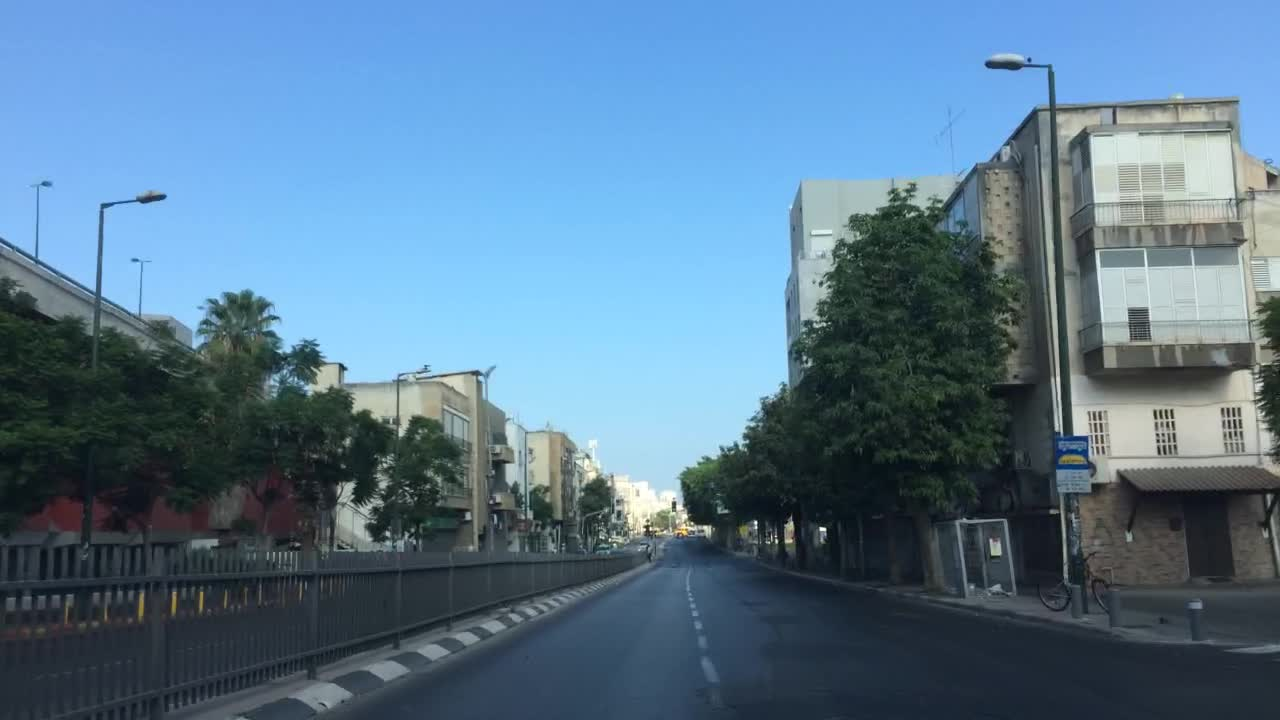bike: (1035, 548, 1117, 614)
bus: (673, 526, 688, 538)
car: (607, 534, 626, 553), (596, 543, 612, 558), (638, 539, 650, 553), (695, 527, 707, 541), (685, 527, 696, 541), (624, 534, 634, 548), (573, 548, 586, 556)
person: (644, 534, 651, 561)
traffic sign: (1053, 437, 1092, 494)
